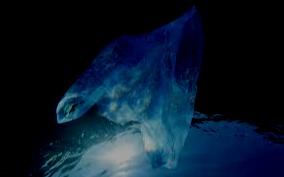Plastic: (53, 1, 206, 176)
